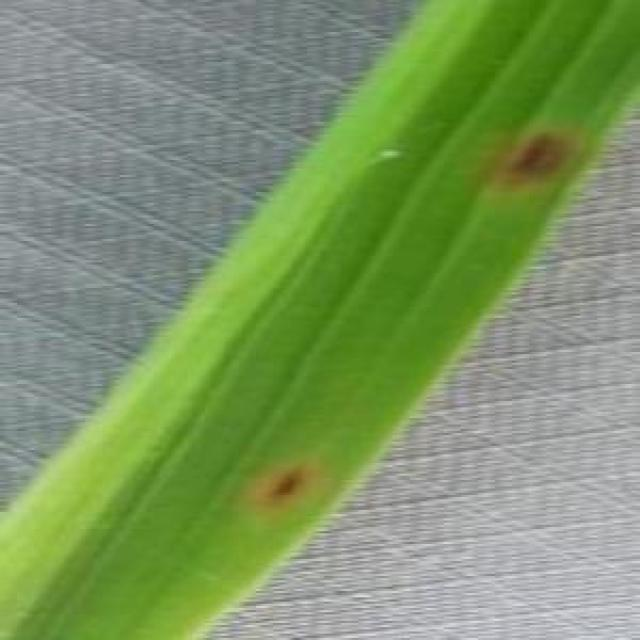Brown_Spot: (463, 122, 582, 204), (244, 449, 316, 514)
